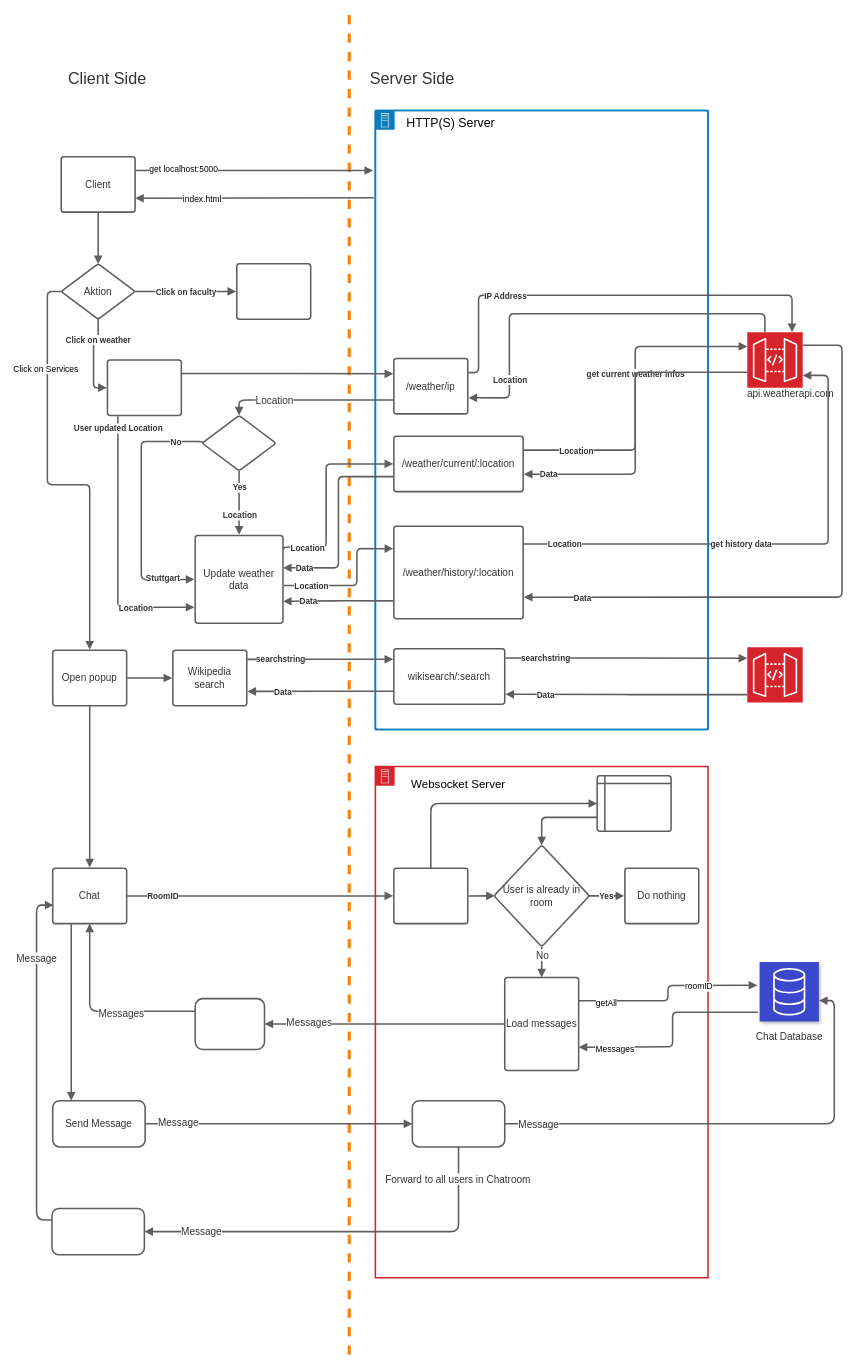
This 862x1370 diagram has some shape labels left out. The centre of each missing label's shape, as x and y in pixels:
Event: join: point 430,895
Event: load: point 229,1023
Event: msg: point 458,1123
Event:msg: point 98,1231
Rooms: point 633,803
Scroll to faculty: point 273,291
show weather: point 144,387
Success: point 238,442
Wikipedia API: point 774,674
